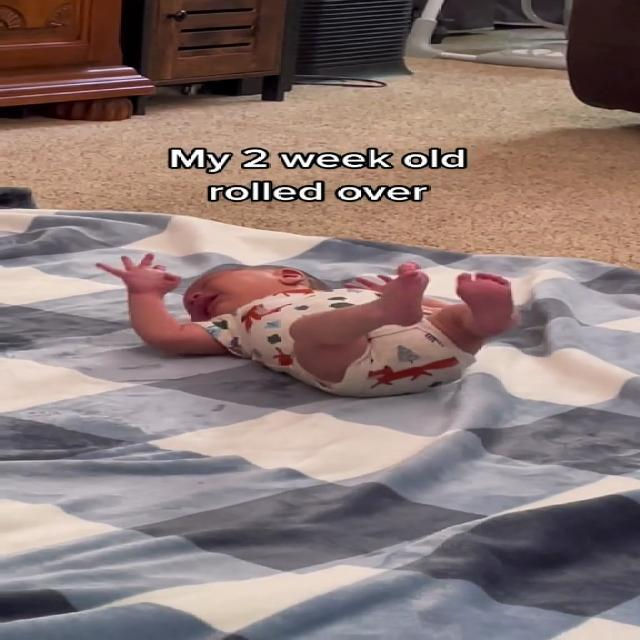baby: (101, 245, 534, 397)
